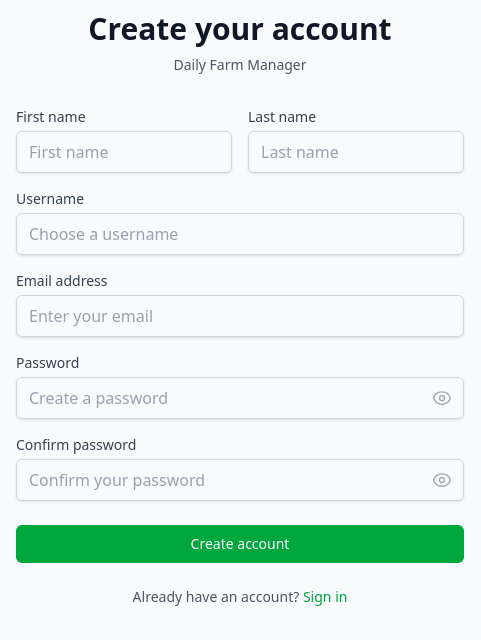
Registration Flow › should show validation errors for empty fields
The width and height of the screenshot is (481, 640).
Click the submit button at [240, 544], box [16,525,464,563]
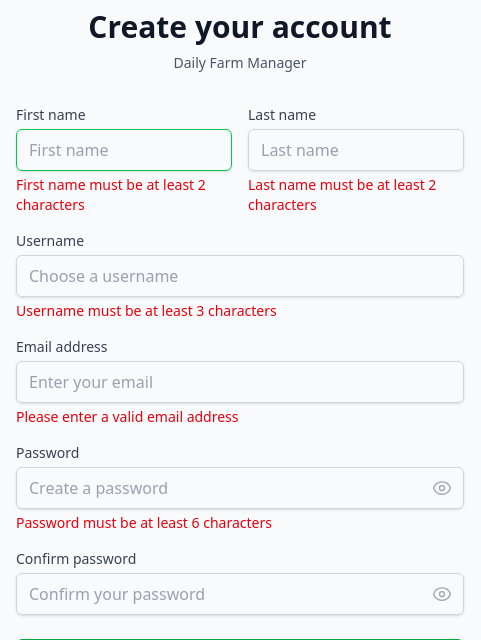
Now the text "First name must be at least 2 characters" is shown, box [16,175,232,215]
Now the text "Last name must be at least 2 characters" is shown, box [248,175,464,215]
Now the text "Username must be at least 3 characters" is shown, box [16,301,277,320]
